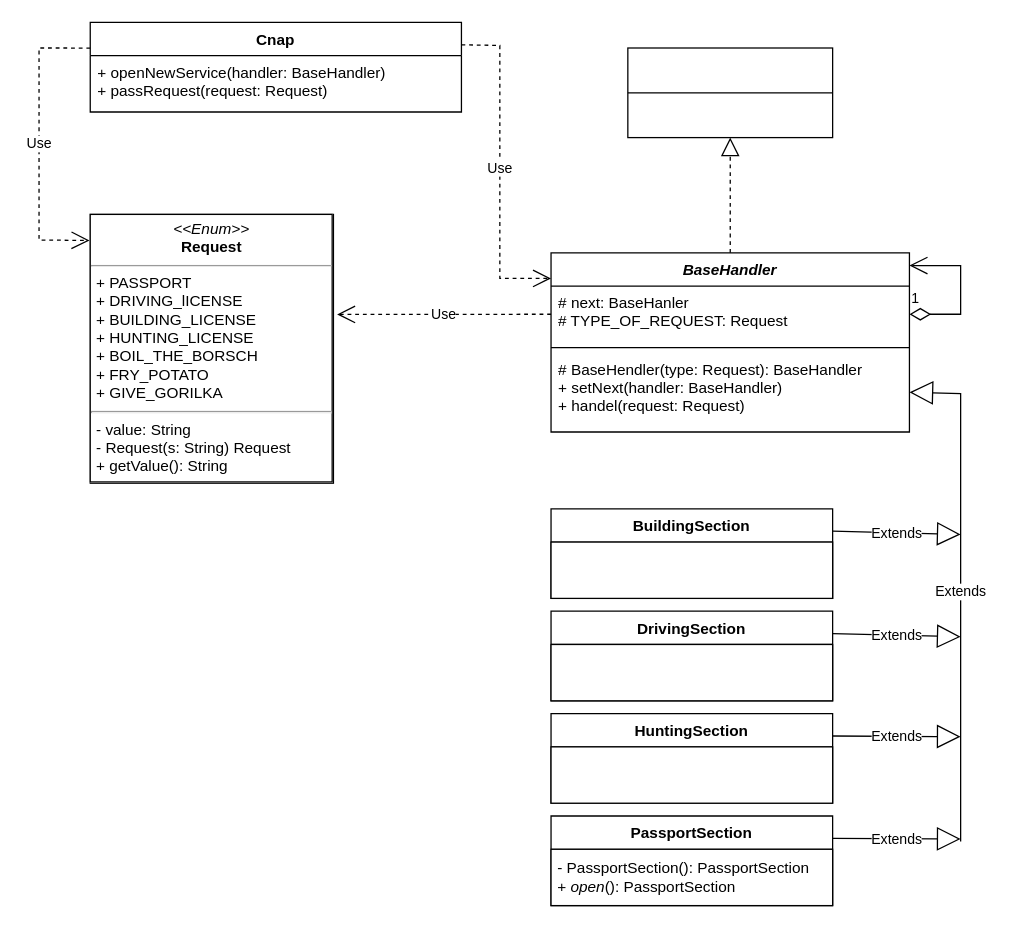
Image size: 1009x928. Some labels were removed from this diagram. The shapes that lost their labels are listed below. From the top down, each one's centre as x and y in pixels, then its label:
At pixel 730 92: "<<Interface>> RequestHandler + handle(request: Request)".
At pixel 691 569: "- BuildingSection(): BuildingSection + open (): BuildingSection".
At pixel 691 672: "- DrivingSection (): DrivingSection + open (): DrivingSection".
At pixel 691 774: "- HuntingSection (): HuntingSection + open (): HuntingSection".
